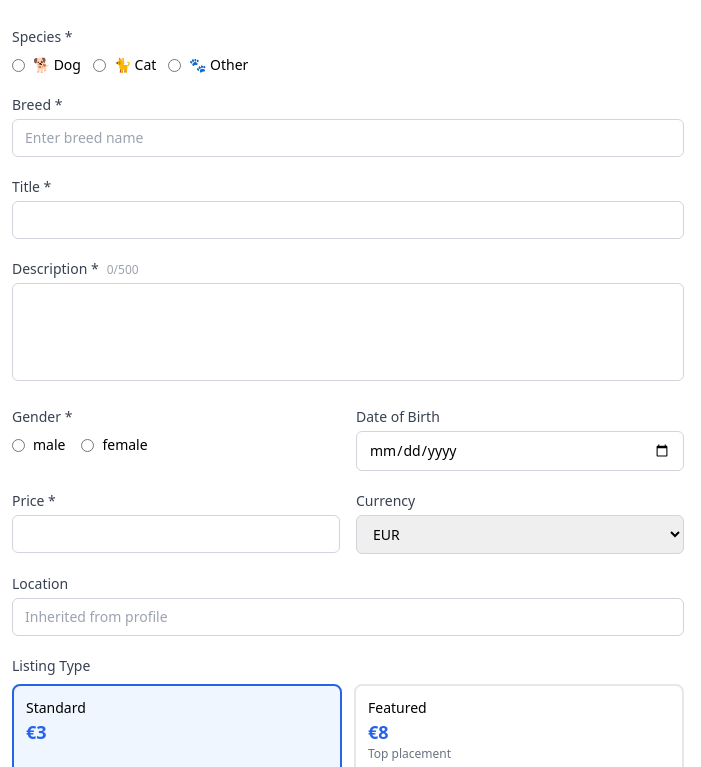
Test case: CreateListingForm › Step 3 shows correct price for selected listing type
The width and height of the screenshot is (701, 767).
Click the radio button labelled "🐕 dog": (18, 65) [12,58,25,72]
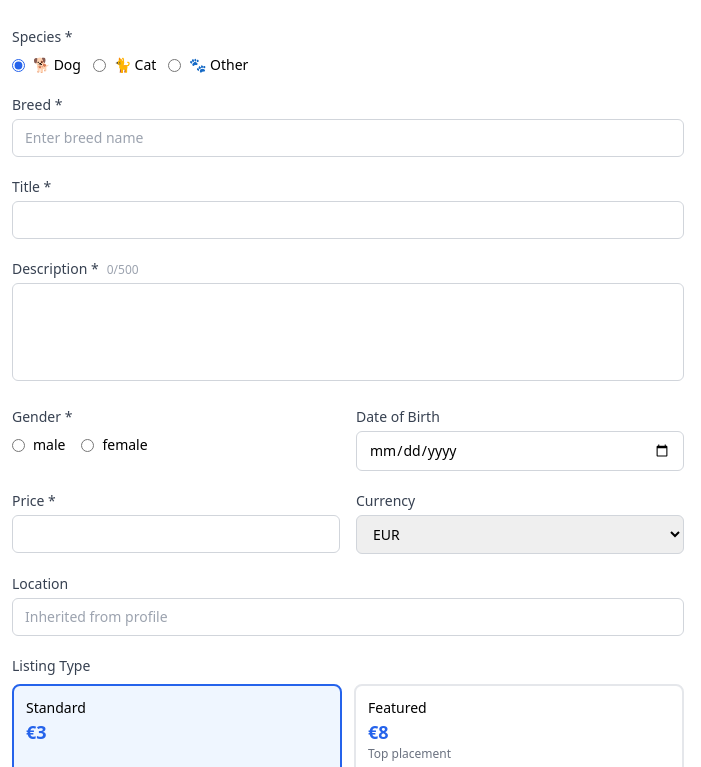
Click the radio button labelled "male": (18, 445) [12,438,25,452]
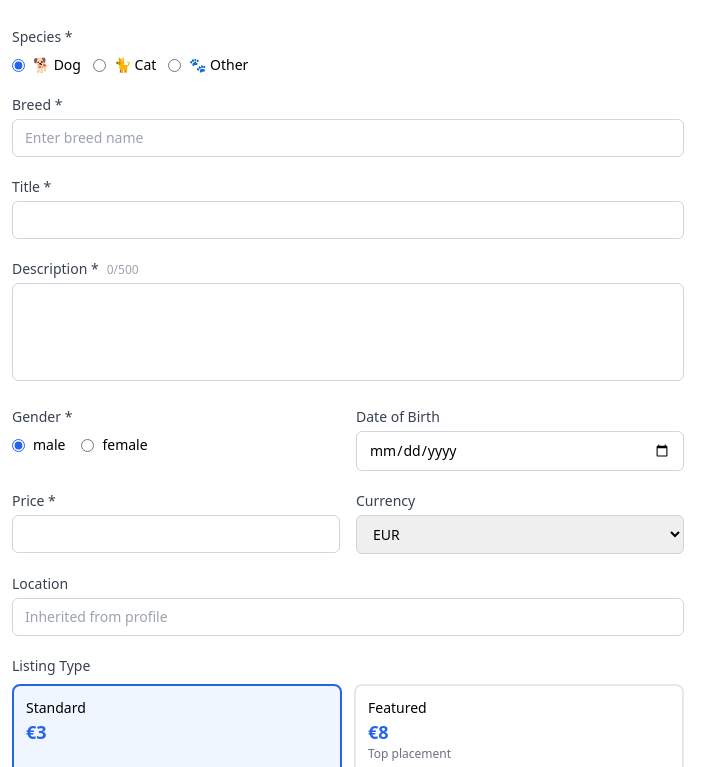
In the field named "title": (348, 220) [12,201,684,239], type "Lovely Puppy"
In the text box named "description": (348, 332) [12,283,684,381], type "Great puppy for a family."
In the number field named "price": (176, 534) [12,515,340,553], type "500"
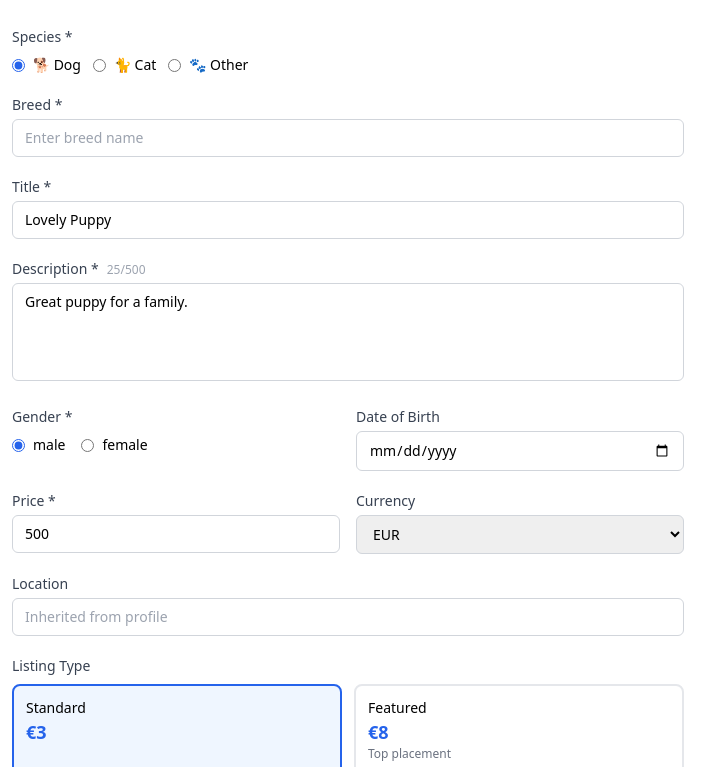
In the field named "breed": (348, 138) [12,119,684,157], type "Golden Retriever"
(page scrolled)
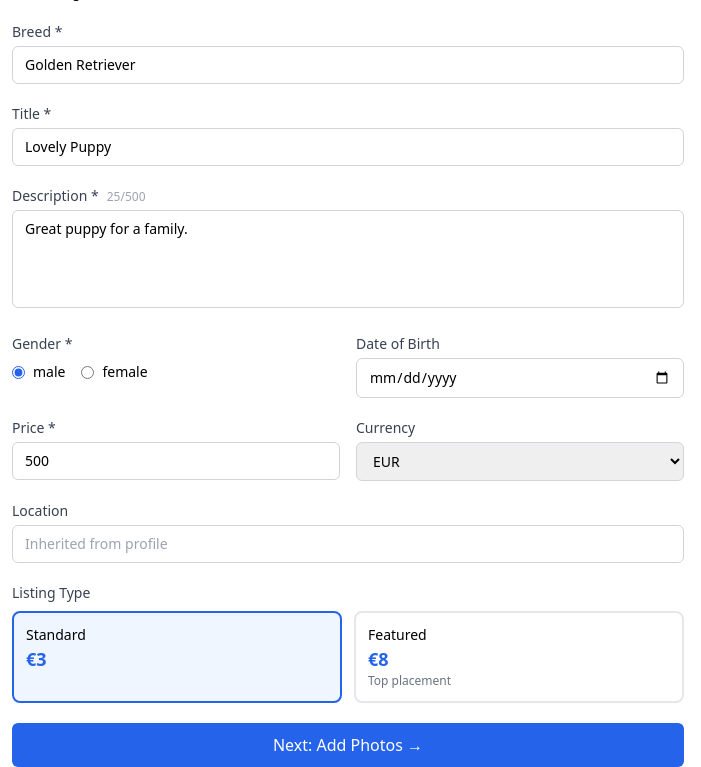
Click the radio button labelled "featured €8 Top placement": (397, 634) [354,611,684,703]
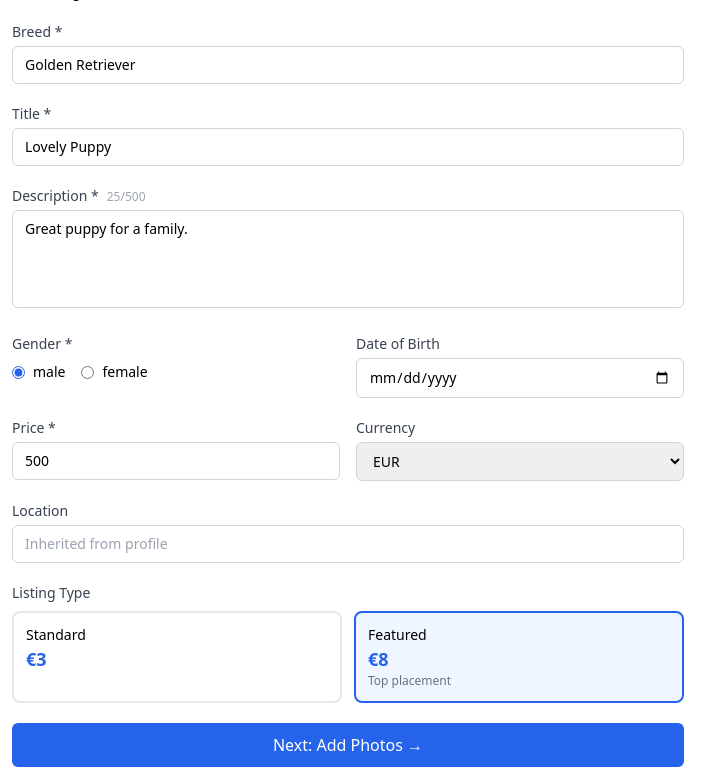
Expected: the text "€8" is shown, [368,647,389,671]
Click the button "Next: Add Photos →": (348, 745) [12,723,684,766]
(page scrolled)
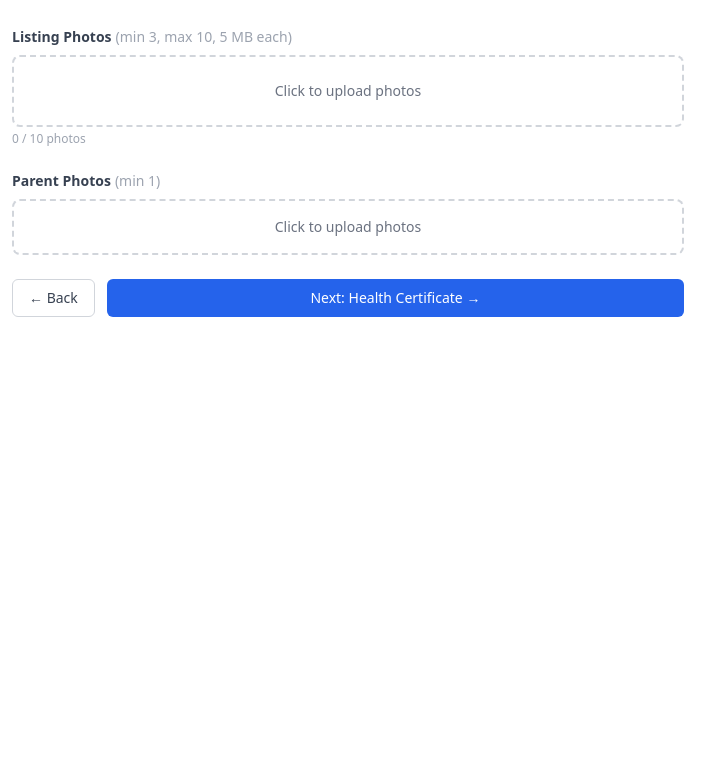
Expected: the heading "Listing Photos(min 3, max 10, 5 MB each)" is shown, [12,27,292,46]
